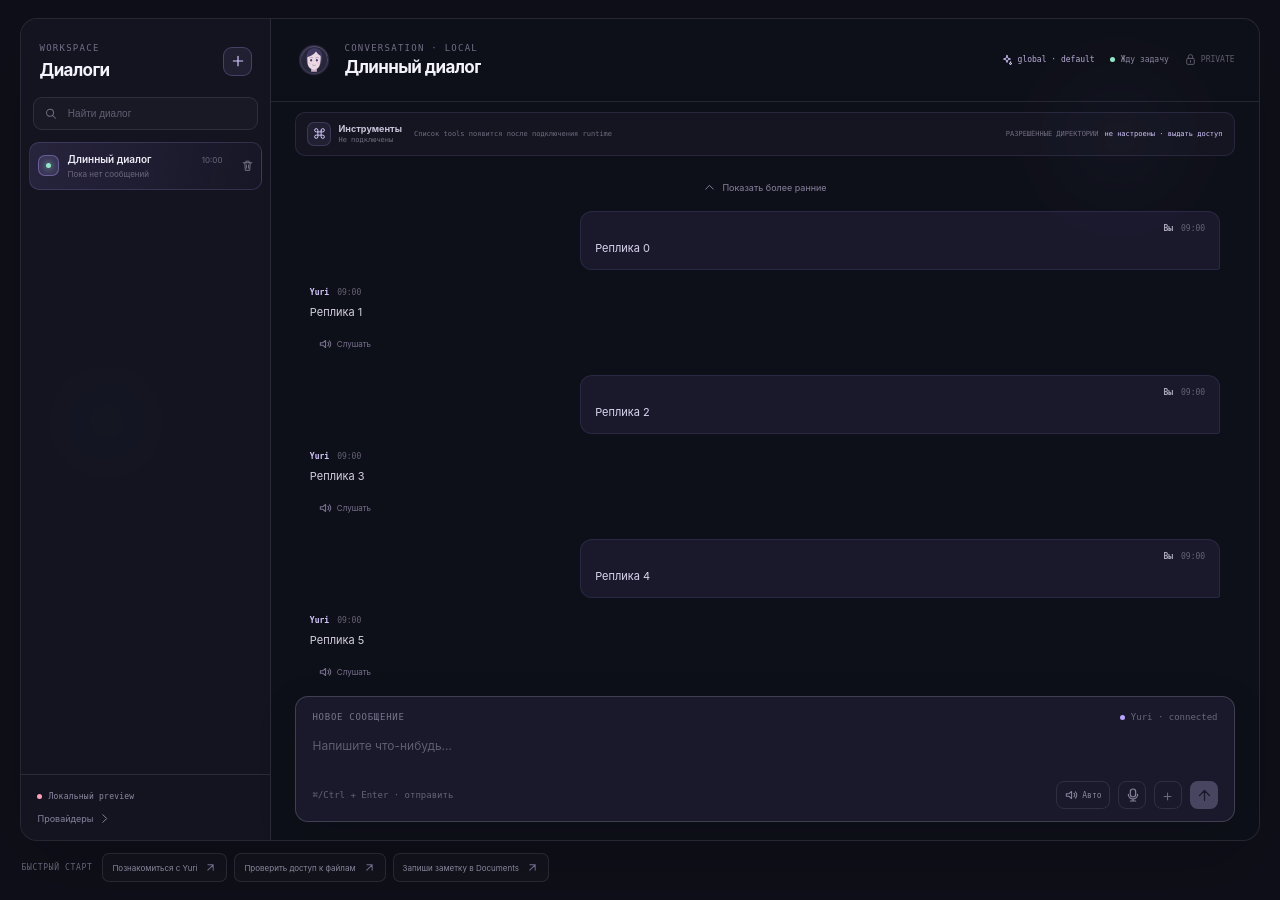
Test: “показать более ранние” pages the backend once local history runs out (M-35) › walks back page by page and retires the control at the start of the transcript
This screenshot has width=1280, height=900.
Expected: the text box named "Сообщение Yuri" is shown, [312,722,1218,781]
Click the button "Показать более ранние" at coordinates (765, 187), box [703,181,827,194]
(page scrolled)
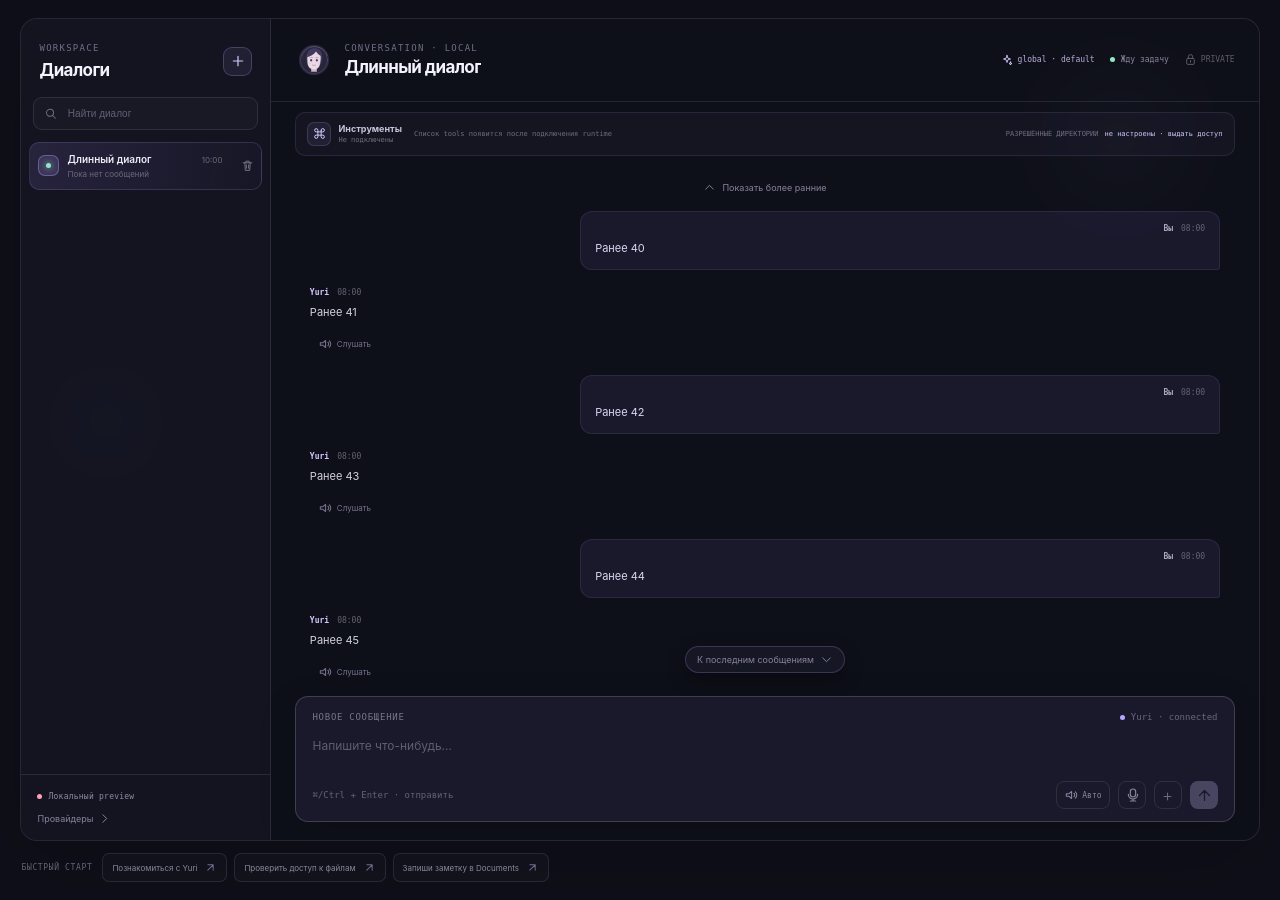
Click the button "Показать более ранние" at coordinates (765, 187), box [703,181,827,194]
(page scrolled)
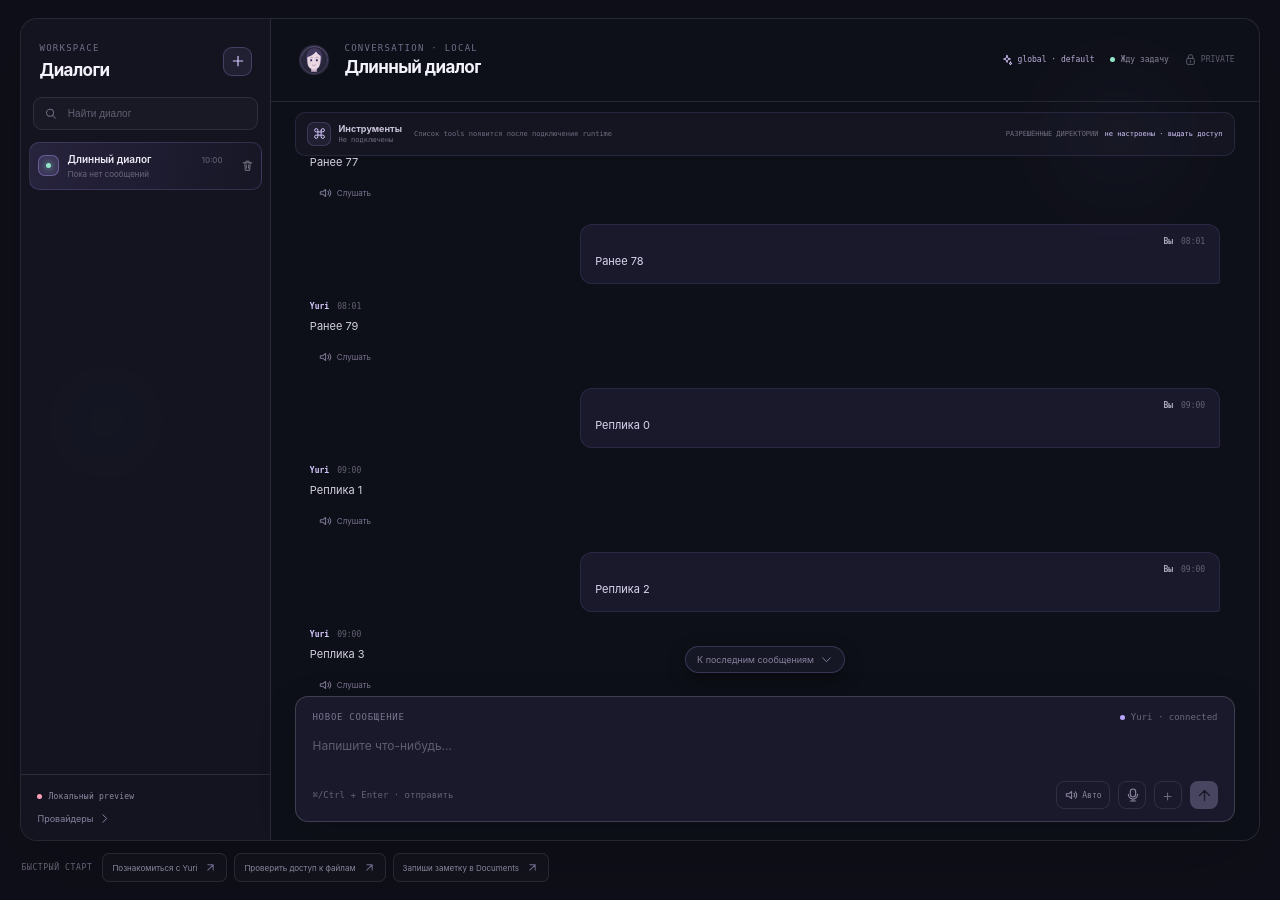
Now the text with class "message__content" reads "Реплика 0", box [595,418,650,432]
Now the button "Показать более ранние" is gone
